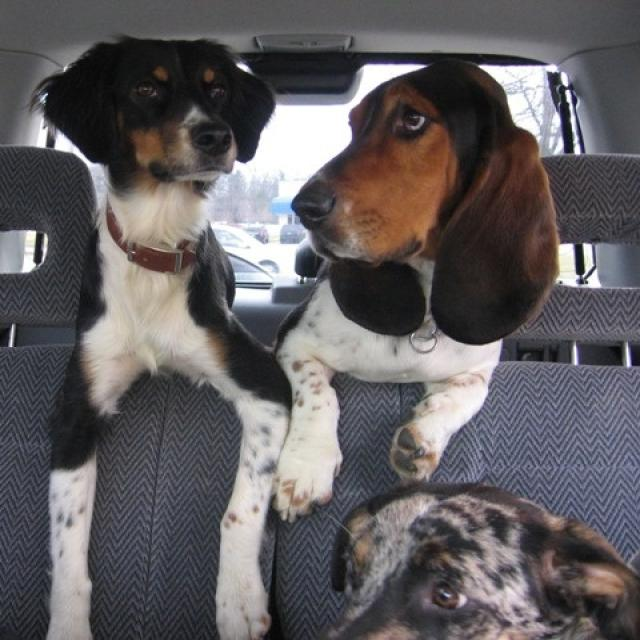dog: (32, 32, 287, 639), (264, 53, 561, 518), (320, 481, 639, 638)
